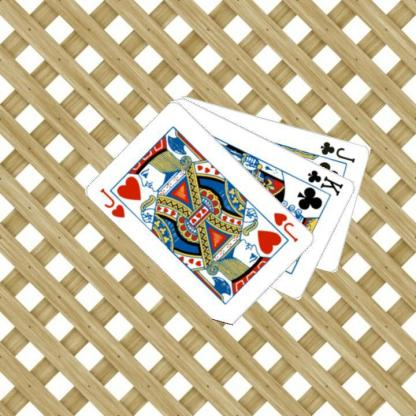JC: (318, 139, 357, 164)
JH: (271, 210, 300, 244), (98, 186, 126, 219)
KC: (298, 167, 345, 198)
